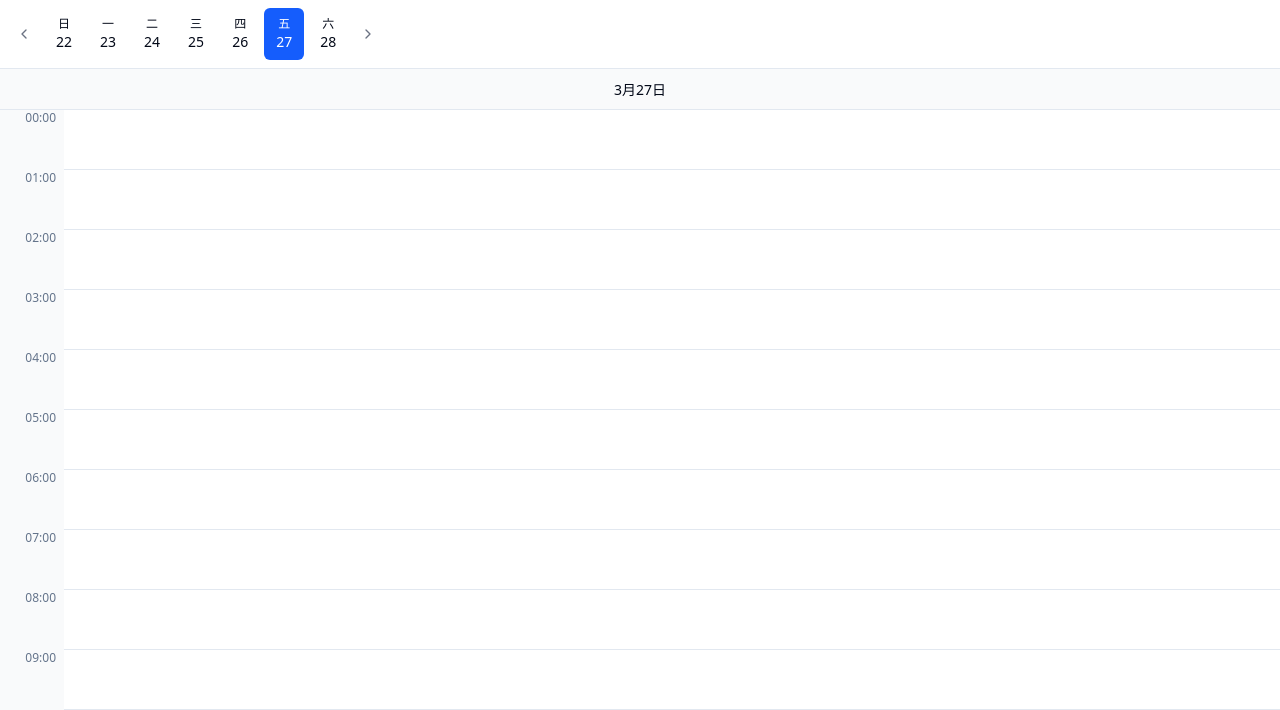
it: WeekView (Refactored - Single Day Mode) › week navigation › clicking right arrow navigates to next week
Expected: the text "22" is shown, 56,32 -> 72,52
Click right arrow
Click the button named "下一周".
click(368, 34)  # box 352,18 -> 384,50
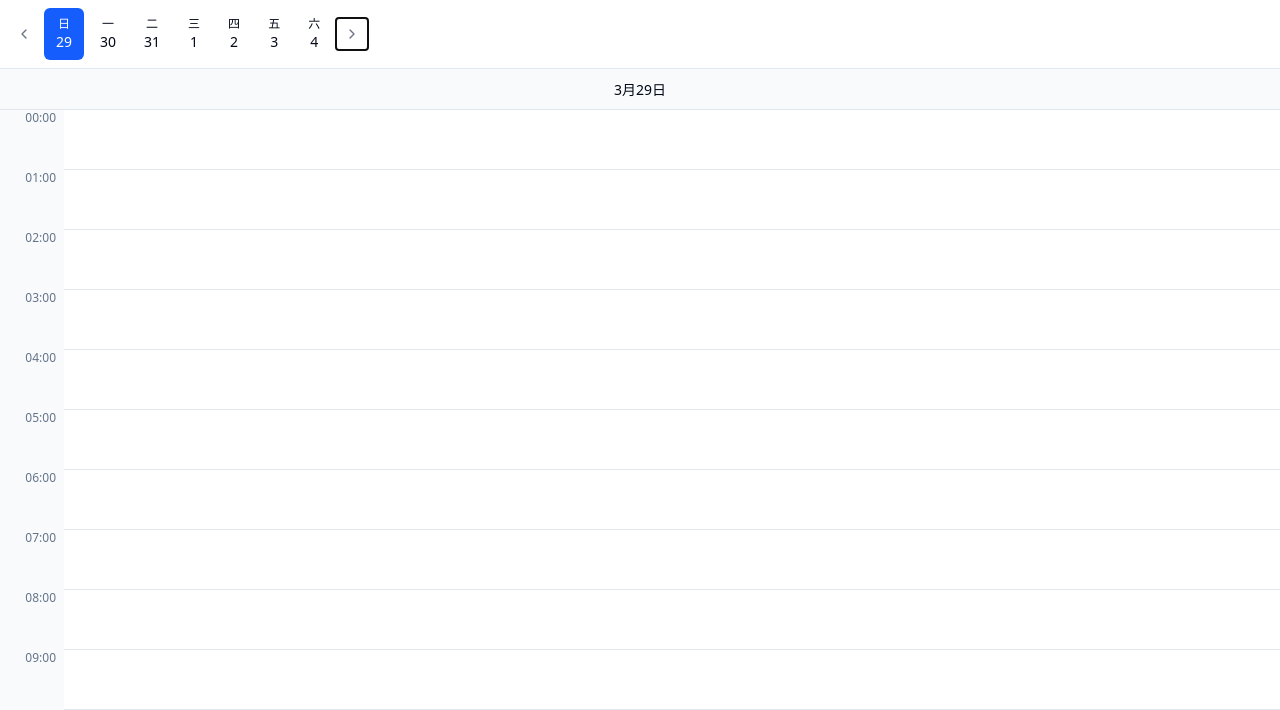
Expected: the text "29" is shown, 56,32 -> 72,52
